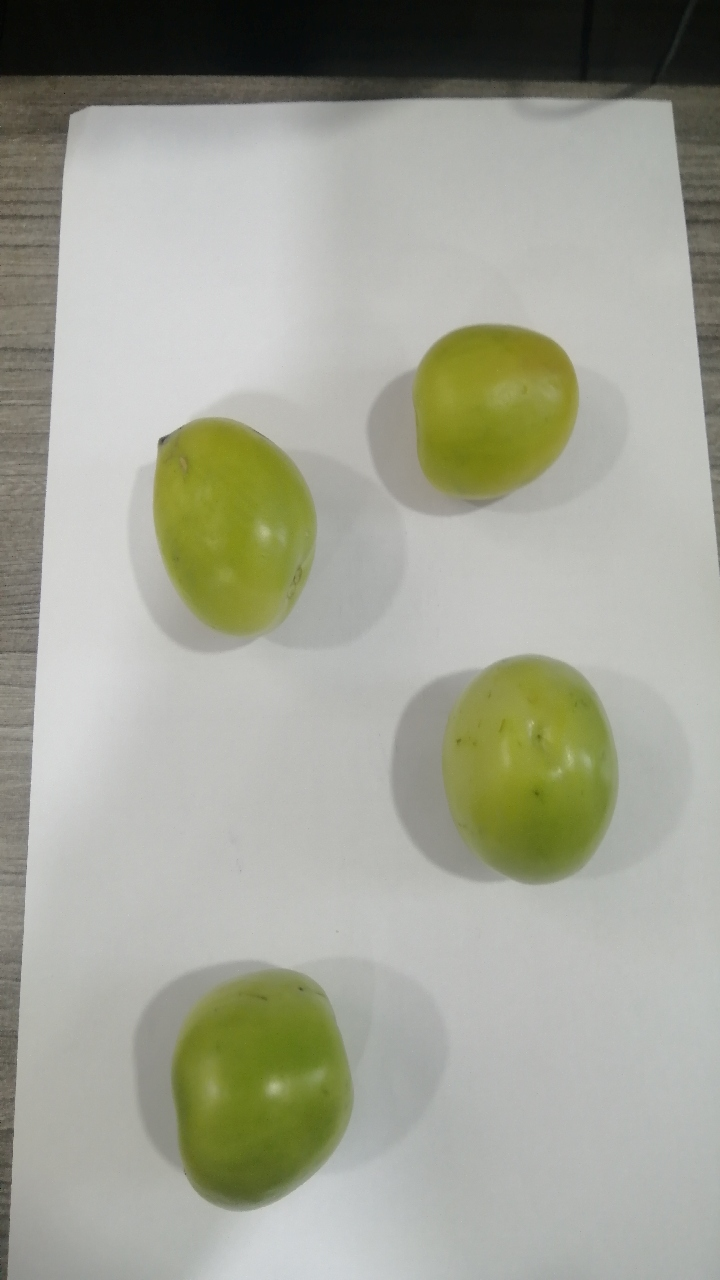tomateVerde: (134, 957, 397, 1226), (115, 388, 349, 645), (383, 274, 603, 522), (424, 642, 640, 888)
